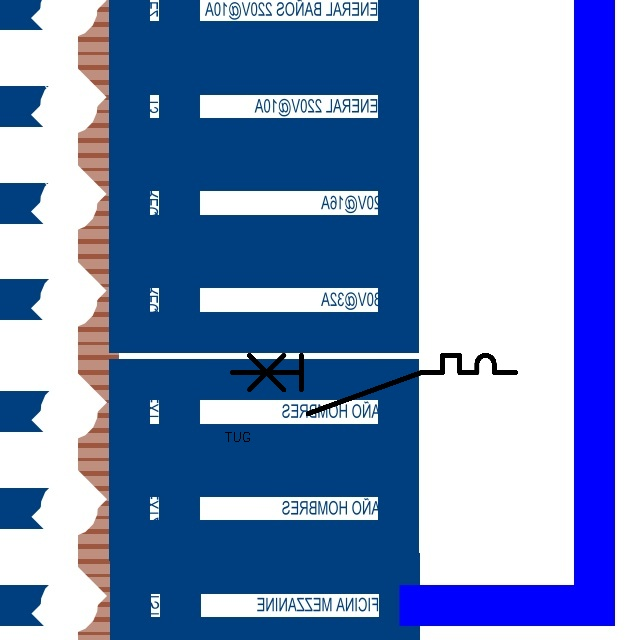interruptor_termomagnetico: (225, 348, 523, 421)
